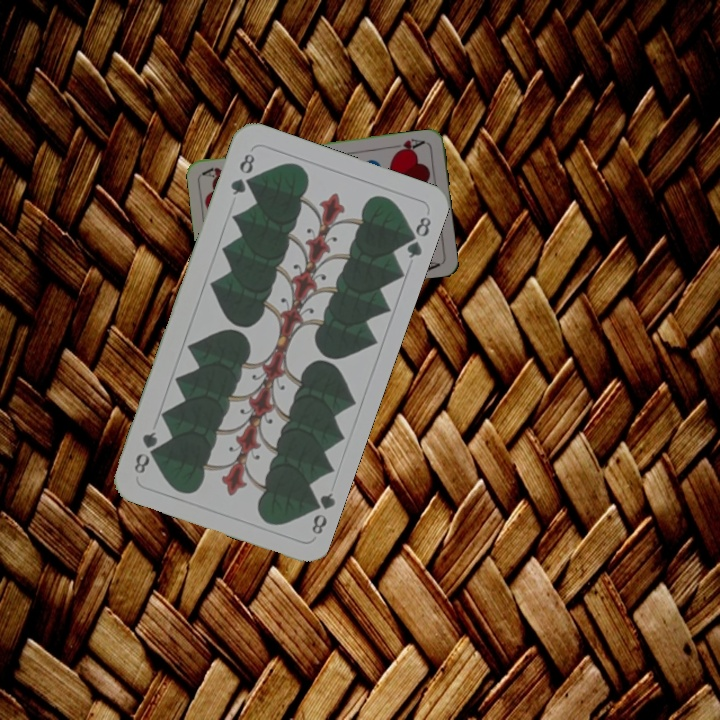G8: (304, 488, 338, 537), (226, 149, 258, 198)
HA: (388, 135, 427, 156)
